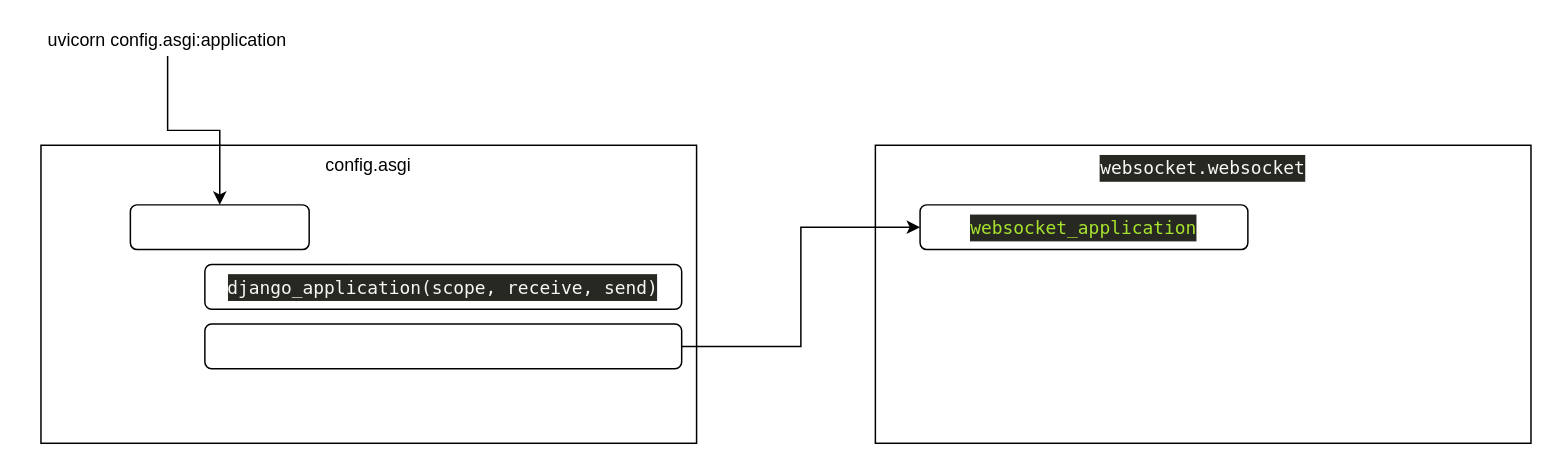
The diagram is 1557 pixels wide and 469 high, and some of its shapes have lost their labels. Here are the shapes that lost their labels. From the top down, the centre of each, then its label:
At (219,226): "application".
At (442,346): "websocket_application(scope, receive, send)".
